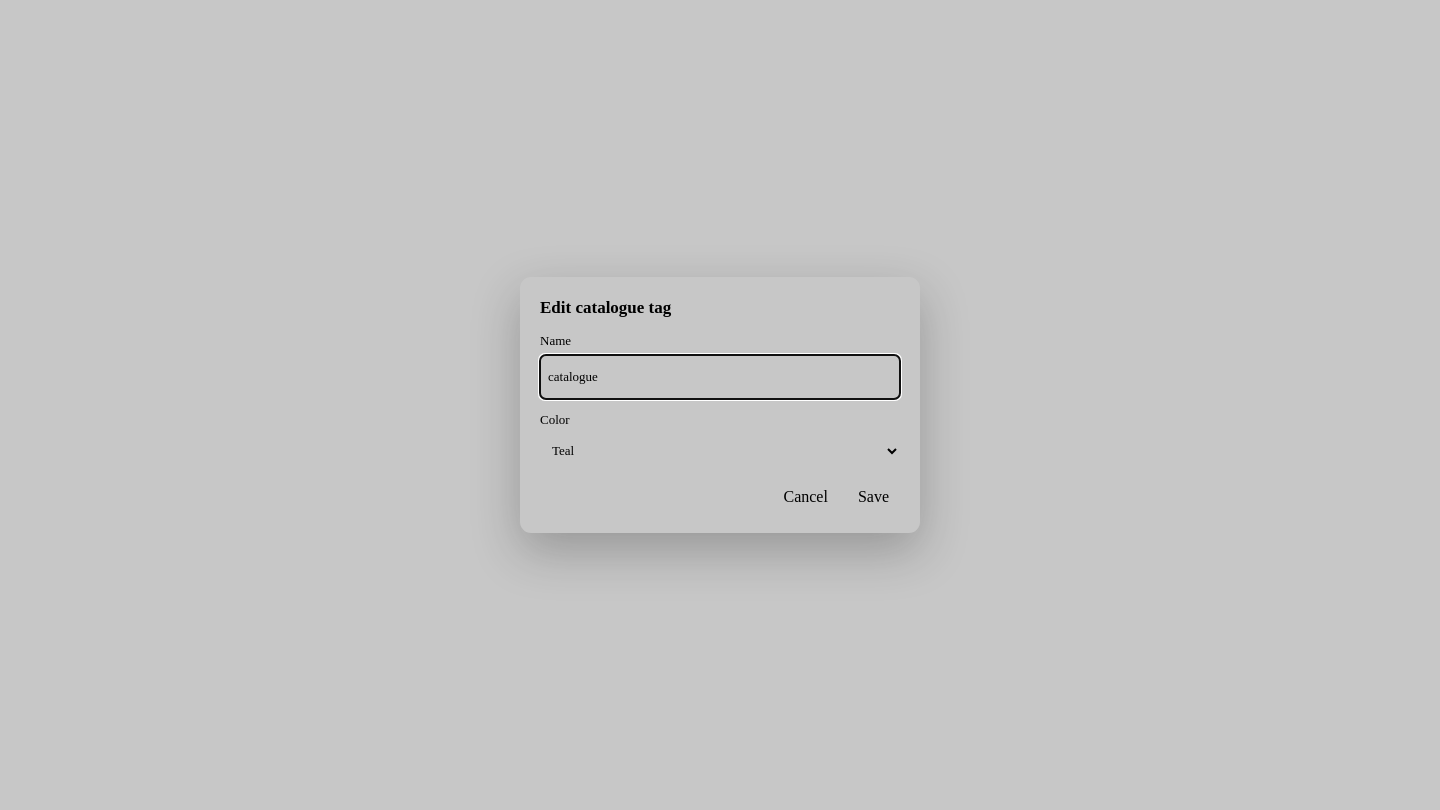
Test case: TagEditorDialog › retains its draft and reports a visible failure without claiming success
Replace the text in the field named "Tag name" with " Team catalogue ": (720, 377) [540, 355, 900, 399]
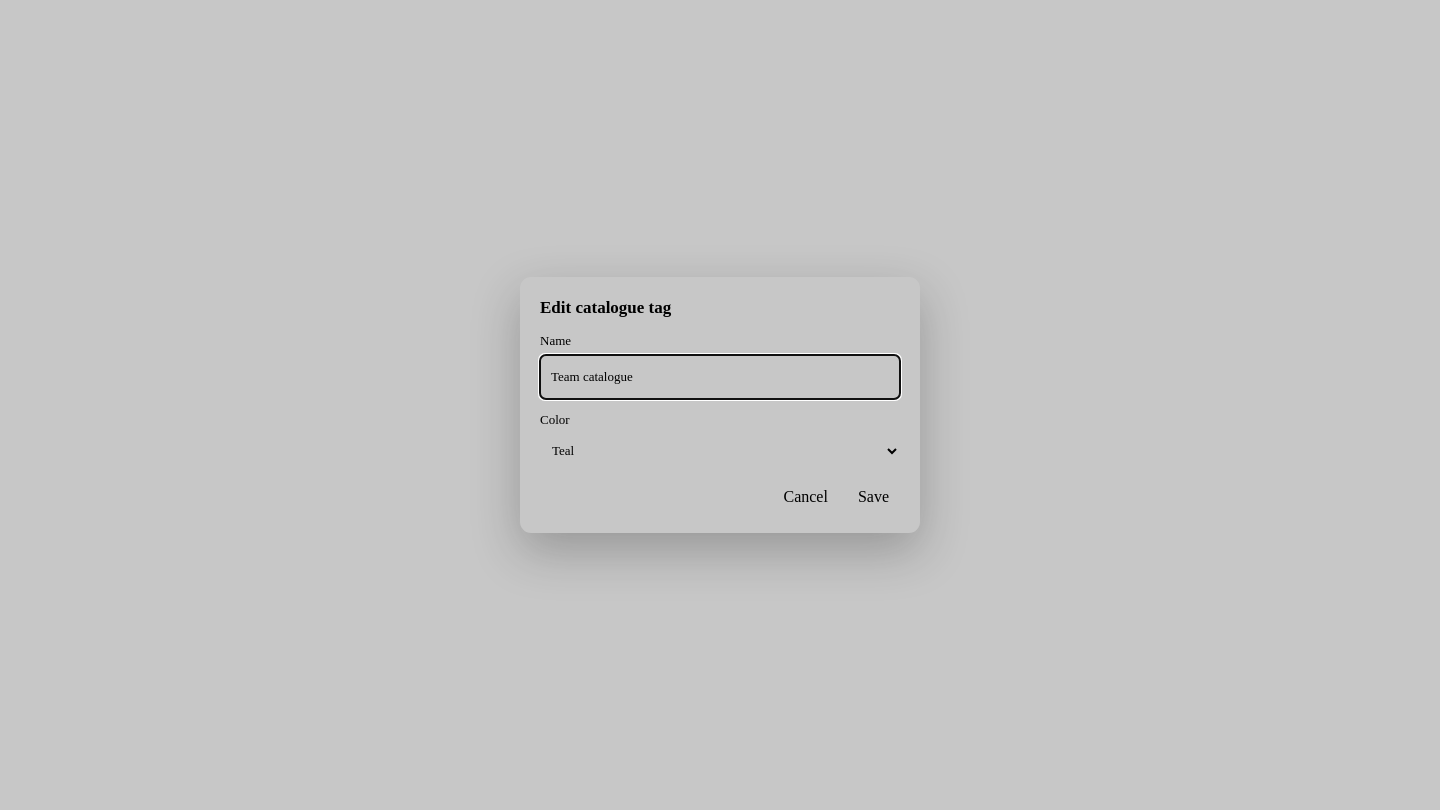
Submit the dialog, box [520, 277, 920, 533]
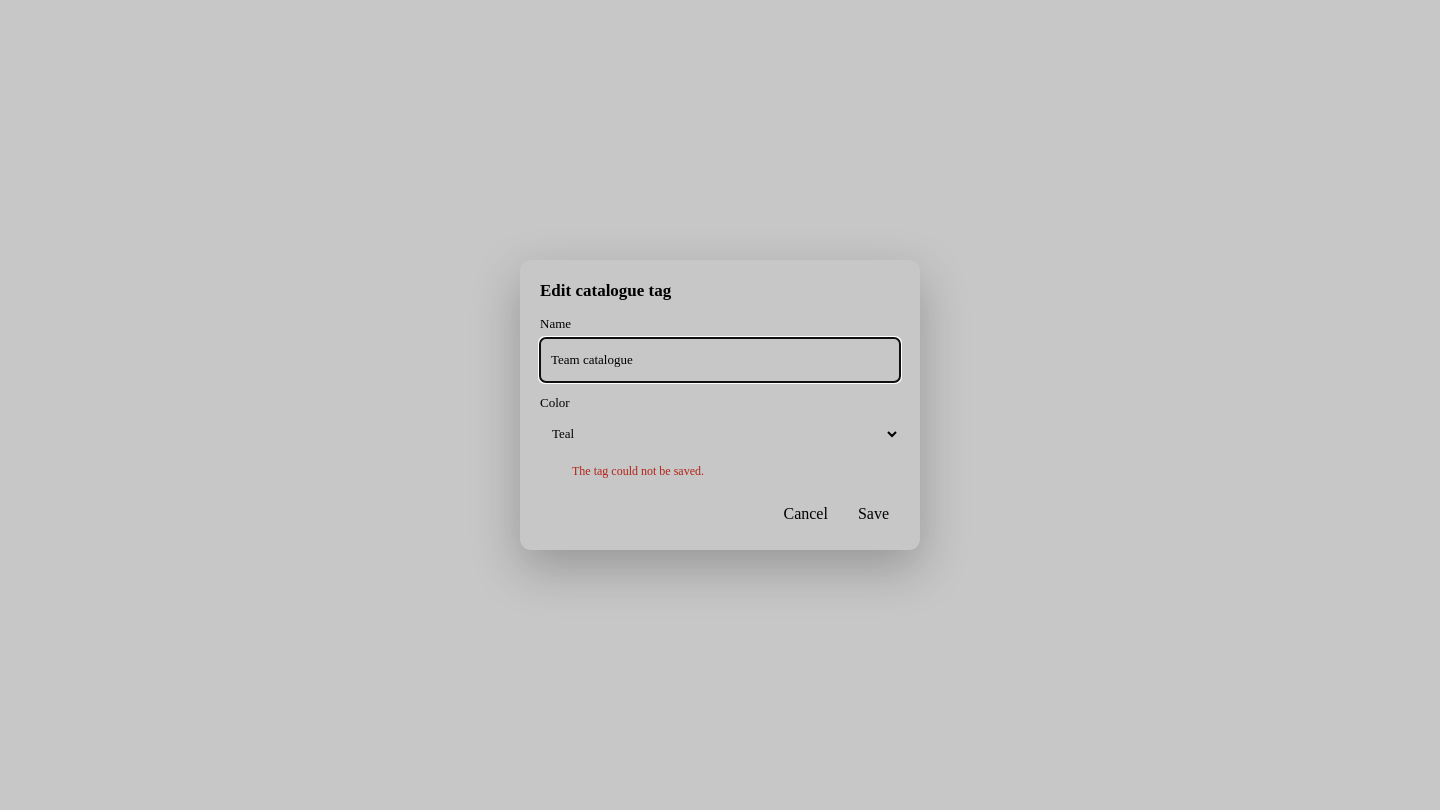
Result: the message reads "The tag could not be saved." at [572, 464, 704, 478]
